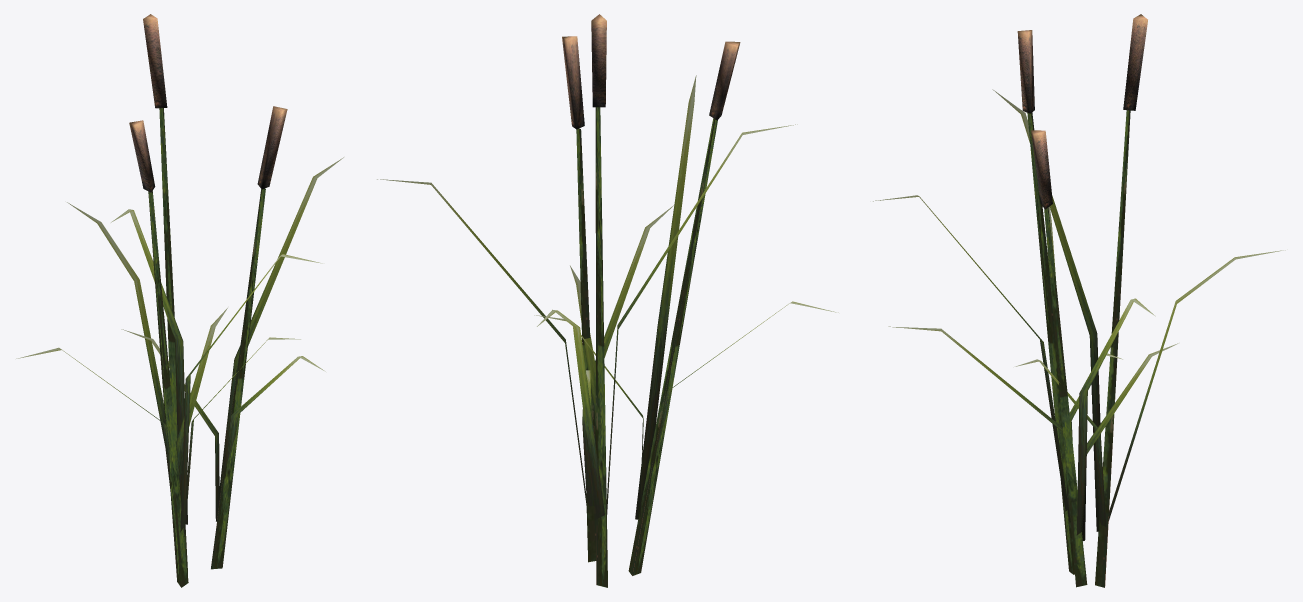
Rendered from swmp_shor_cattail_cluster_l1.fbx.
The picture shows the model from 3 angles, left to right: view 1: azimuth 30°, elevation 25°; view 2: azimuth 150°, elevation 25°; view 3: azimuth 270°, elevation 25°; orthographic projection. The views are drawn at different scales.
Parts seen in each view (by area): view 1: mesh_node; view 2: mesh_node; view 3: mesh_node.
Boxes of the visible parts, x1=… form: mesh_node: x1=16, y1=14, x2=343, y2=587; mesh_node: x1=377, y1=14, x2=838, y2=587; mesh_node: x1=873, y1=14, x2=1285, y2=587.
Size of the model in its own units: 2.7 by 3.68 by 2.5.
